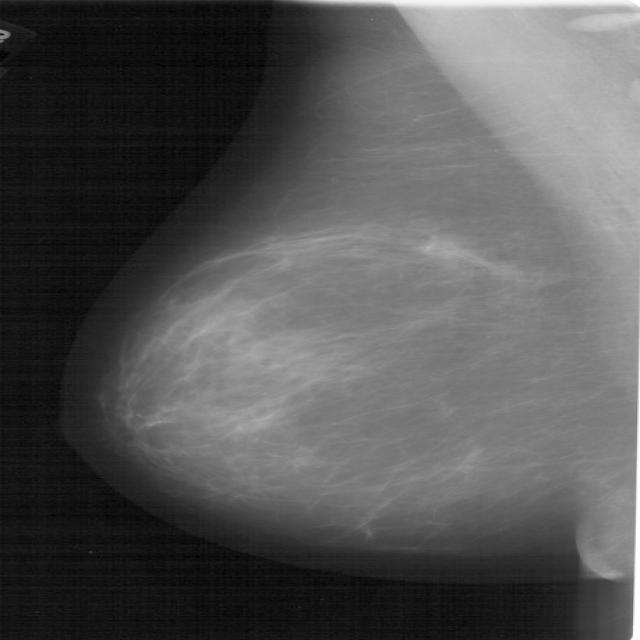tumour: (414, 230, 481, 264)
